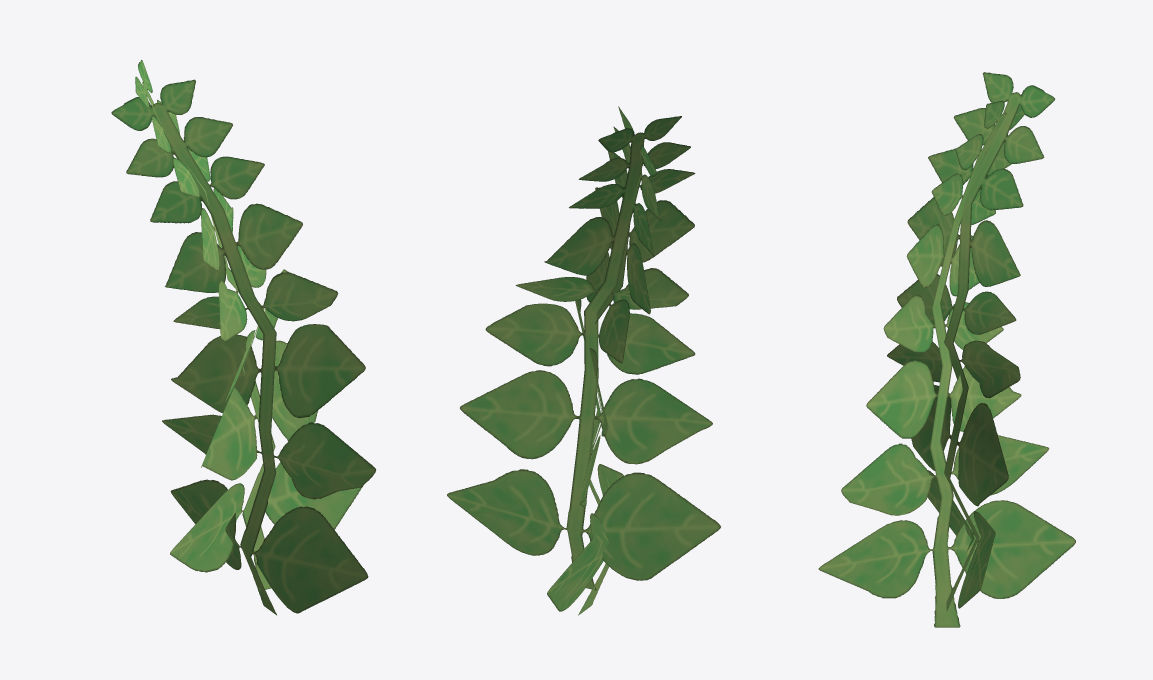
File: LeafSetB_13.fbx
The picture shows the model from 3 angles, left to right: view 1: azimuth 30°, elevation 25°; view 2: azimuth 150°, elevation 25°; view 3: azimuth 270°, elevation 25°; orthographic projection. The views are drawn at different scales.
Visible parts, largest first — view 1: LeafSetB_13; view 2: LeafSetB_13; view 3: LeafSetB_13.
Boxes of the visible parts, bbox=[...] form: LeafSetB_13: bbox=[111, 60, 375, 615]; LeafSetB_13: bbox=[447, 106, 720, 615]; LeafSetB_13: bbox=[818, 72, 1075, 627].
Bounding box in the file's own units: 0.7451 × 1.33 × 0.7213.
